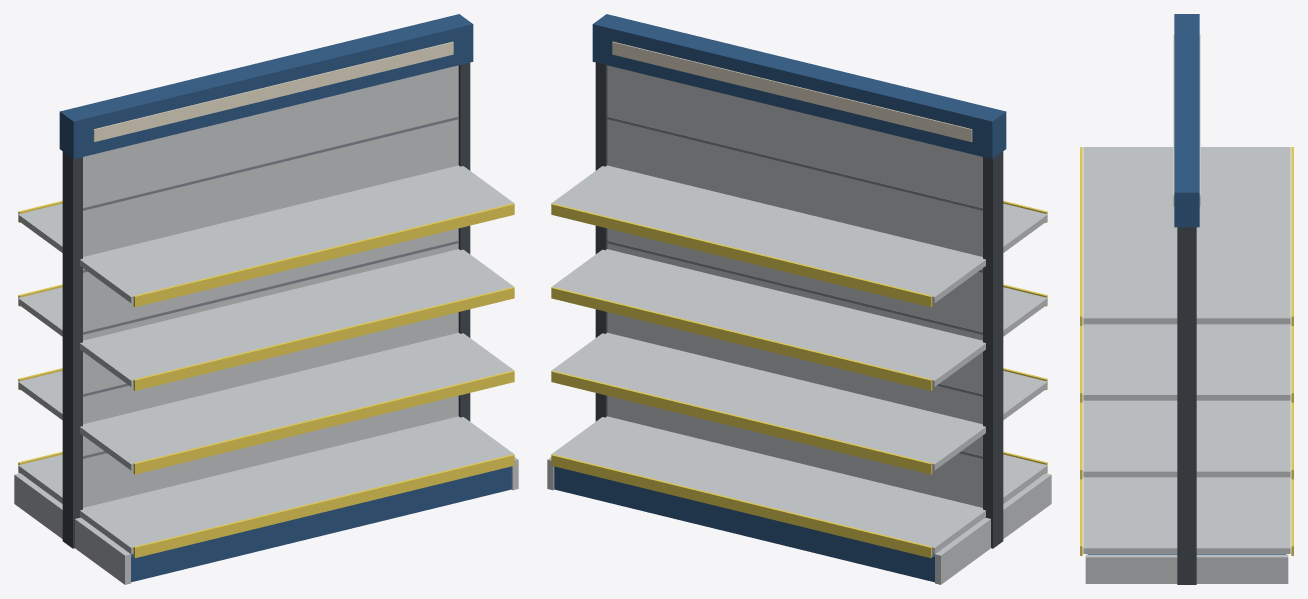
Rendered from Aisle_Shelf_Double_2m.glb.
3 renders of one model, left to right at view 1: azimuth 30°, elevation 25°; view 2: azimuth 150°, elevation 25°; view 3: azimuth 270°, elevation 25°, orthographic. The views are drawn at different scales.
Visible parts, largest first — view 1: Aisle_Shelf_Double_2m; view 2: Aisle_Shelf_Double_2m; view 3: Aisle_Shelf_Double_2m.
Boxes of the visible parts, left/top/right/bottom form: Aisle_Shelf_Double_2m: left=14, top=14, right=518, bottom=584; Aisle_Shelf_Double_2m: left=547, top=14, right=1051, bottom=584; Aisle_Shelf_Double_2m: left=1080, top=14, right=1293, bottom=584.
Bounding box in the file's own units: 2 × 2.05 × 1.01.
Materials: 1 (1 with a texture image).
